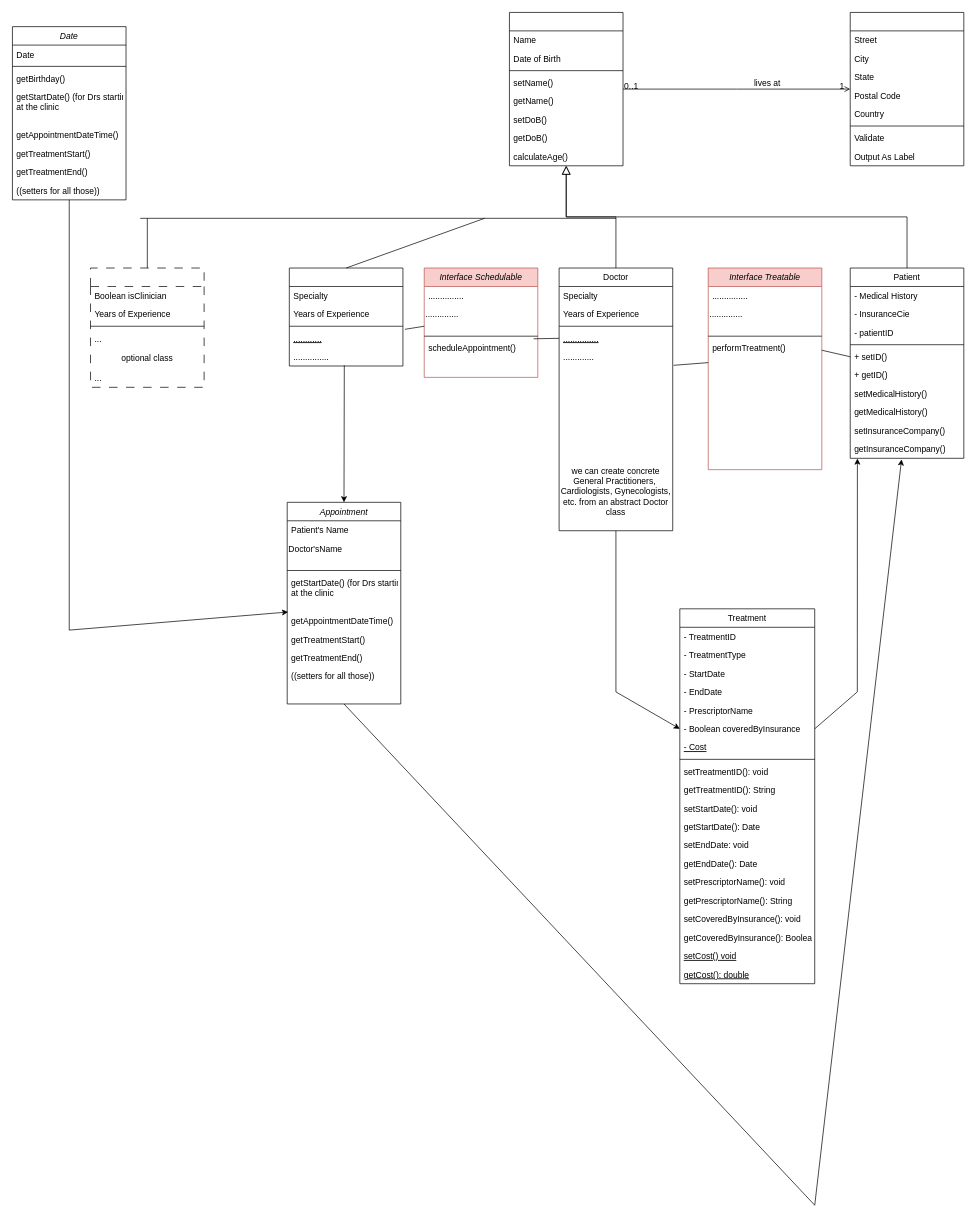
The diagram is 976 pixels wide and 1223 high, and some of its shapes have lost their labels. Here are the shapes that lost their labels. From the top down, the box of each, then its label:
(509, 12, 623, 166): Person
(850, 12, 964, 166): Address
(90, 267, 204, 387): Nurse
(289, 267, 403, 366): Receptionist
